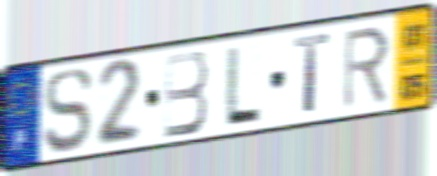2: (95, 56, 144, 153)
B: (162, 48, 210, 142)
L: (221, 43, 264, 127)
R: (341, 23, 392, 113)
S: (42, 64, 95, 158)
T: (292, 30, 332, 118)
